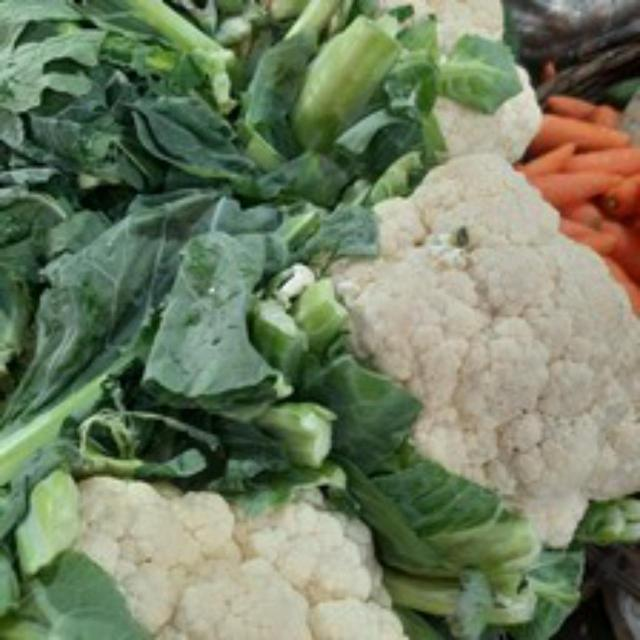cauliflower: (342, 140, 640, 567)
